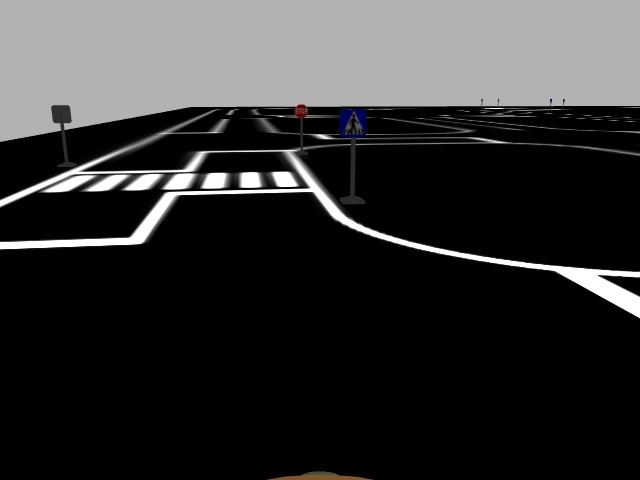crosswalk: (337, 105, 369, 140)
stop: (294, 104, 308, 119)
